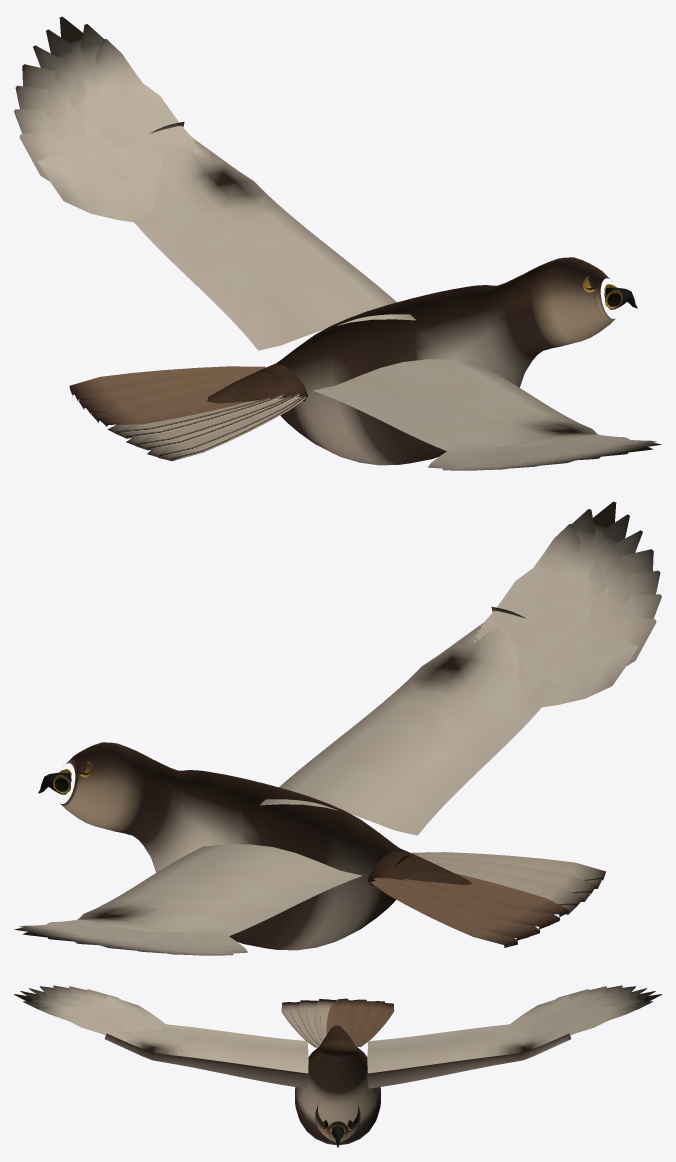
File: SM_Bird_buzzard_flap1.glb
3 views of the same model, one above another, from view 1: azimuth 30°, elevation 25°; view 2: azimuth 150°, elevation 25°; view 3: azimuth 270°, elevation 25° (orthographic). The views are drawn at different scales.
Visible parts, largest first — view 1: SM_Bird_buzzard_flap1; view 2: SM_Bird_buzzard_flap1; view 3: SM_Bird_buzzard_flap1.
Part boxes in pixels (box(x1,y1,x2,y2)): SM_Bird_buzzard_flap1: box(14, 16, 661, 470); SM_Bird_buzzard_flap1: box(14, 501, 661, 955); SM_Bird_buzzard_flap1: box(14, 985, 661, 1147).
Size of the model in its own units: 0.5872 by 0.2518 by 1.13.
